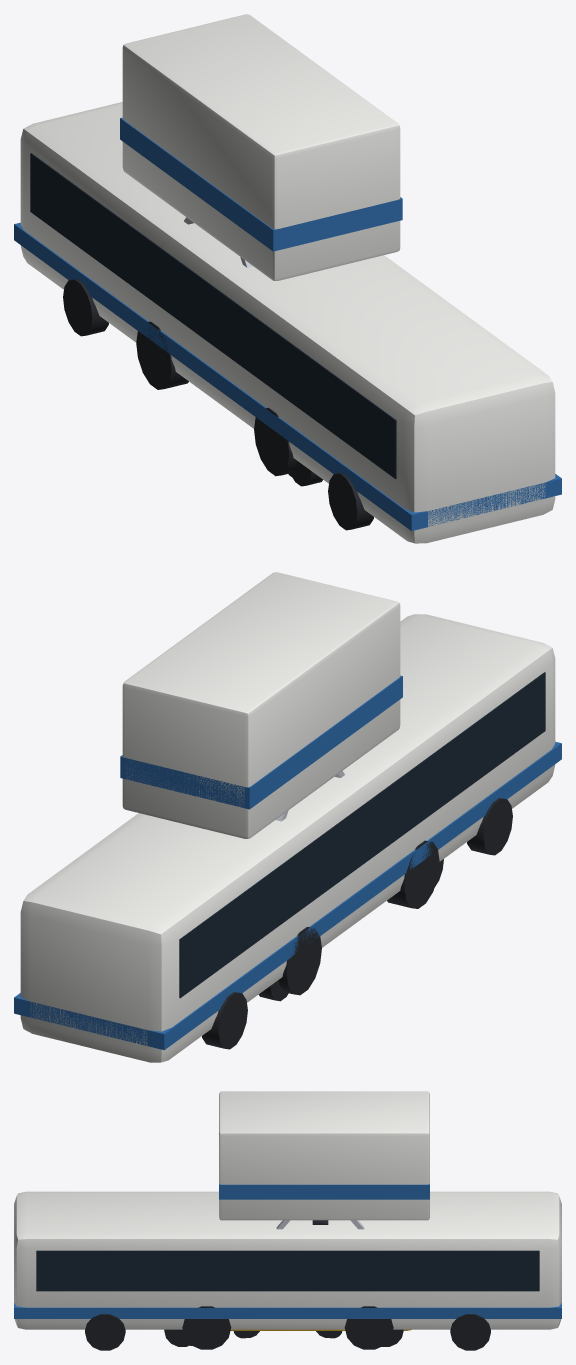
File: gse.glb
3 renders of one model, top to bottom at view 1: azimuth 30°, elevation 25°; view 2: azimuth 150°, elevation 25°; view 3: azimuth 270°, elevation 25°, orthographic. The views are drawn at different scales.
Visible parts, largest first — view 1: Bus_GseWhite, Catering_GseWhite, Bus_GseGlass, Bus_GseBlue, Catering_GseBlue, Tug_GseDark, Bus_GseDark; view 2: Bus_GseWhite, Catering_GseWhite, Bus_GseGlass, Bus_GseBlue, Catering_GseBlue, Tug_GseDark, Bus_GseDark; view 3: Bus_GseWhite, Catering_GseWhite, Bus_GseGlass, Bus_GseBlue, Catering_GseBlue, Tug_GseDark, Bus_GseDark, Catering_GseDark.
Boxes of the visible parts, box(x1,y1,x2,y2) form: Bus_GseWhite: box(20, 102, 555, 543); Catering_GseWhite: box(122, 14, 400, 280); Bus_GseGlass: box(30, 153, 396, 479); Bus_GseBlue: box(14, 222, 561, 530); Catering_GseBlue: box(120, 117, 402, 251); Tug_GseDark: box(136, 321, 296, 476); Bus_GseDark: box(63, 279, 373, 530); Bus_GseWhite: box(20, 614, 555, 1062); Catering_GseWhite: box(122, 572, 400, 838); Bus_GseGlass: box(179, 672, 545, 998); Bus_GseBlue: box(14, 741, 561, 1050); Catering_GseBlue: box(120, 675, 402, 809); Tug_GseDark: box(279, 840, 439, 995); Bus_GseDark: box(202, 798, 512, 1049); Bus_GseWhite: box(14, 1191, 561, 1329); Catering_GseWhite: box(219, 1091, 429, 1220); Bus_GseGlass: box(36, 1250, 539, 1291); Bus_GseBlue: box(14, 1303, 561, 1318); Catering_GseBlue: box(219, 1184, 429, 1199); Tug_GseDark: box(182, 1306, 393, 1349); Bus_GseDark: box(85, 1314, 490, 1350); Catering_GseDark: box(164, 1329, 403, 1346).
Size of the model in its own units: 3.05 by 5.79 by 13.5.
